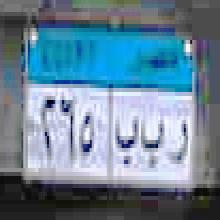2: (41, 92, 57, 164)
5: (78, 107, 96, 163)
6: (59, 93, 76, 167)
baa: (112, 108, 139, 169), (140, 112, 165, 170)
raa: (170, 115, 188, 169)
